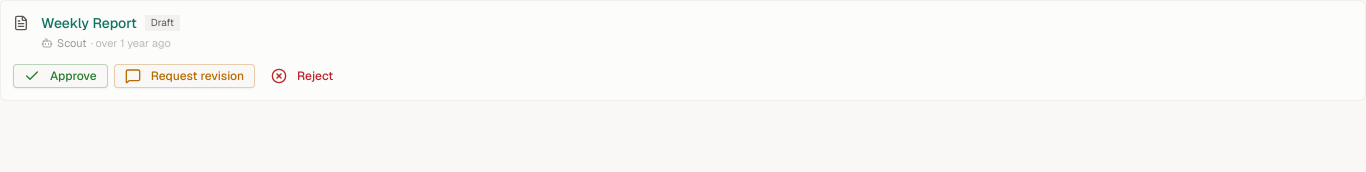
it: TaskDeliverables › shows revision input when Request revision is clicked
Click the button "Request revision" at x=184, y=76, box 114,64 -> 255,88
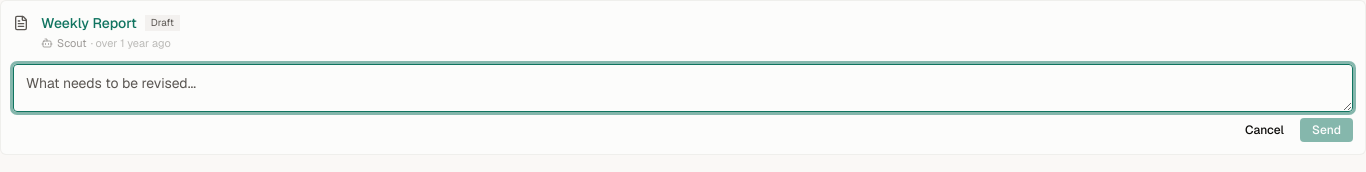
Result: the text box with placeholder "What needs to be revised..." is shown at 13,64 -> 1353,112
